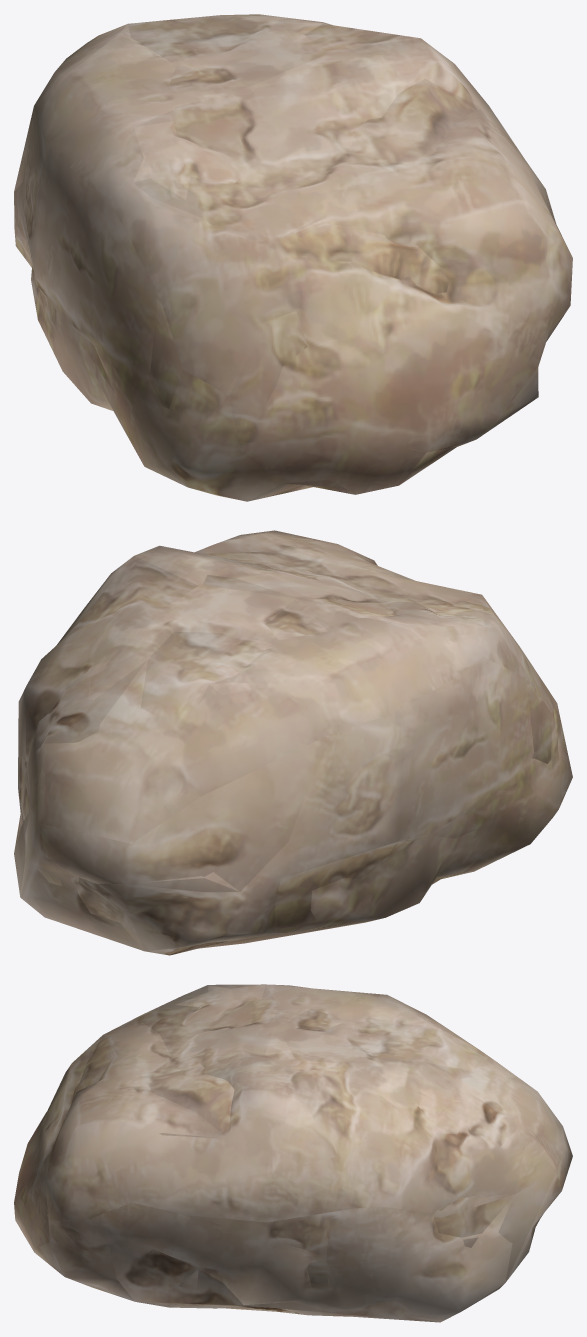
The model's file is Stone_2.FBX.
The picture shows the model from 3 angles, top to bottom: view 1: azimuth 30°, elevation 25°; view 2: azimuth 150°, elevation 25°; view 3: azimuth 270°, elevation 25°; orthographic projection. The views are drawn at different scales.
Visible parts, largest first — view 1: Stone_2, Stone_2_Lod; view 2: Stone_2, Stone_2_Lod; view 3: Stone_2, Stone_2_Lod.
Part boxes in pixels (left/top/right/bottom): Stone_2: left=14, top=14, right=572, bottom=501; Stone_2_Lod: left=14, top=15, right=544, bottom=501; Stone_2: left=14, top=530, right=572, bottom=955; Stone_2_Lod: left=20, top=551, right=551, bottom=950; Stone_2: left=14, top=984, right=572, bottom=1322; Stone_2_Lod: left=46, top=984, right=572, bottom=1322.
Bounding box in the file's own units: 0.873 × 0.4343 × 0.6024.
